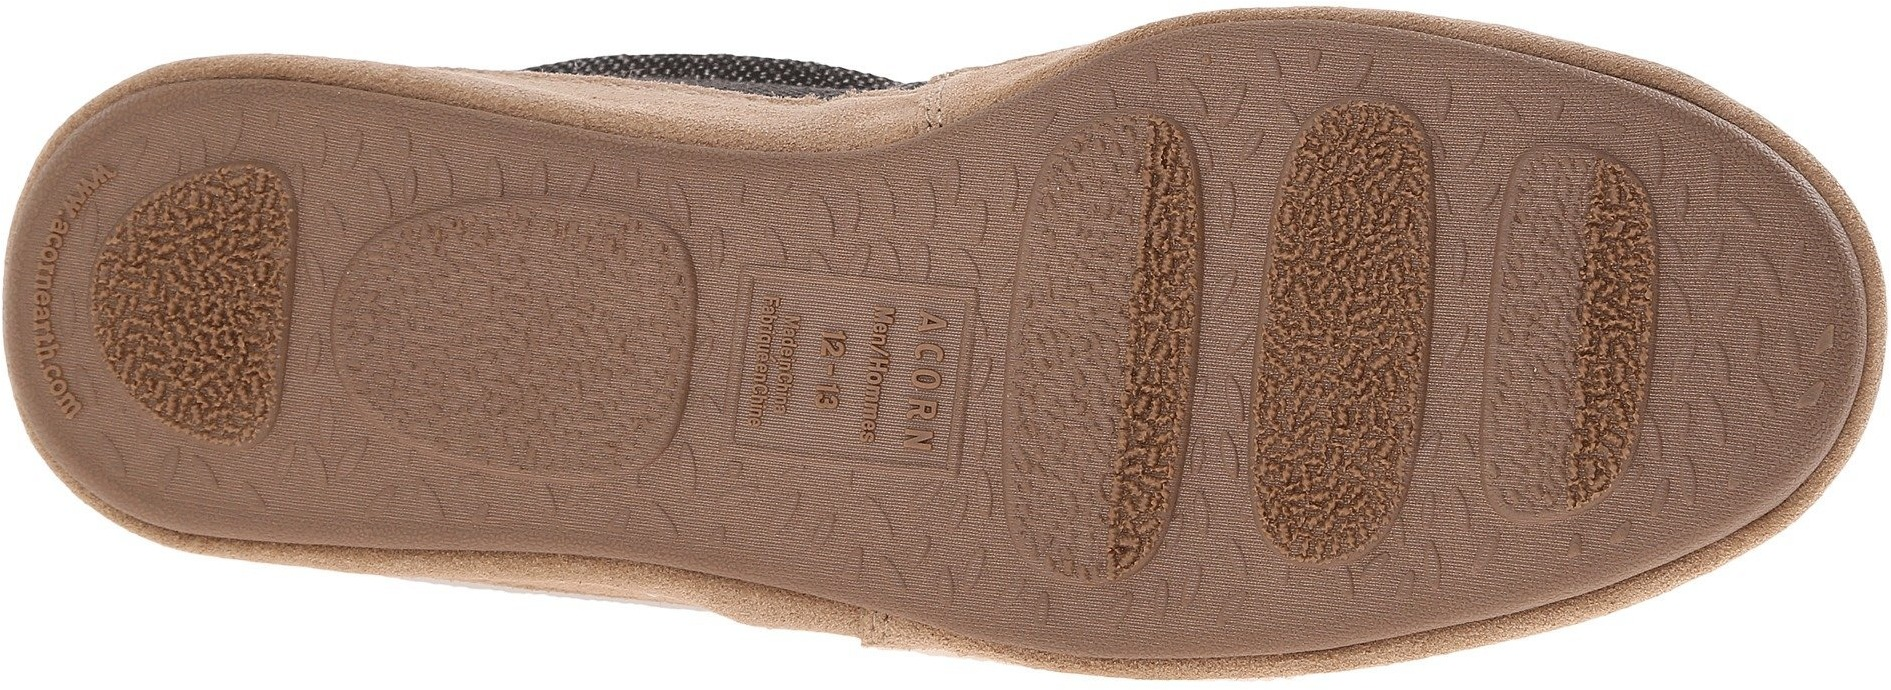other: (421, 220, 640, 450), (1008, 305, 1132, 423), (1037, 160, 1137, 271)
text: (748, 303, 876, 440), (878, 302, 962, 376), (884, 384, 958, 462)
